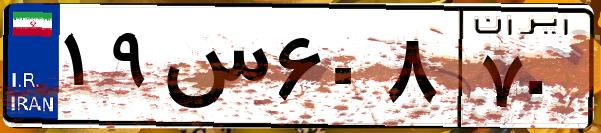0: (330, 28, 385, 110), (525, 38, 570, 115)
1: (57, 26, 110, 100)
6: (270, 28, 330, 110)
7: (475, 38, 525, 113)
8: (385, 28, 445, 110)
9: (110, 28, 158, 98)
س: (158, 20, 270, 120)
